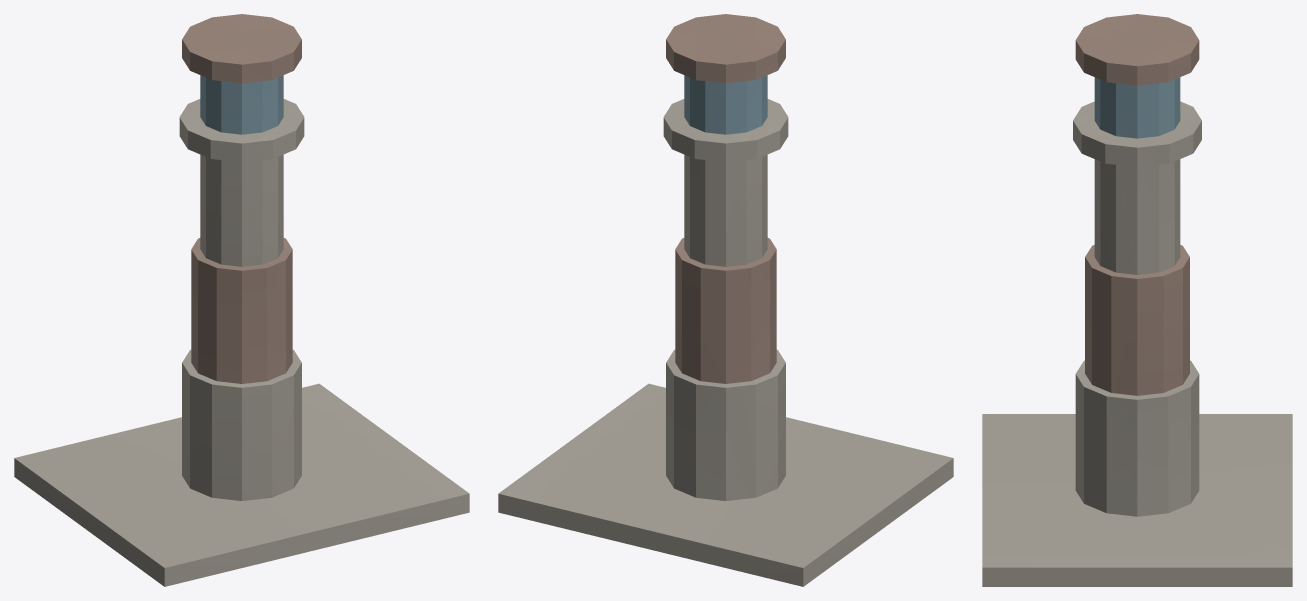
File: lighthouse-05.glb
The picture shows the model from 3 angles, left to right: view 1: azimuth 30°, elevation 25°; view 2: azimuth 150°, elevation 25°; view 3: azimuth 270°, elevation 25°; orthographic projection. The views are drawn at different scales.
Visible parts, largest first — view 1: world; view 2: world; view 3: world.
Part boxes in pixels (box(x1,y1,x2,y2)): world: box(14, 14, 469, 586); world: box(498, 14, 953, 586); world: box(982, 14, 1292, 586).
Size of the model in its own units: 1.35 by 1.93 by 1.15.
